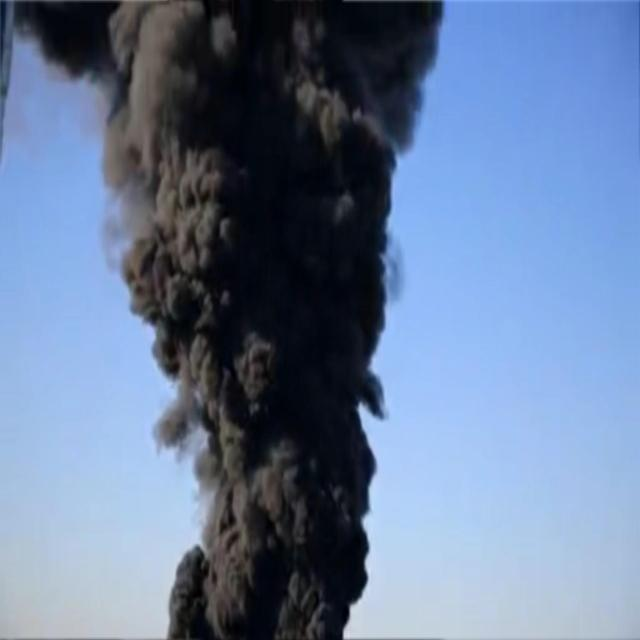smoke: (17, 0, 442, 639)
